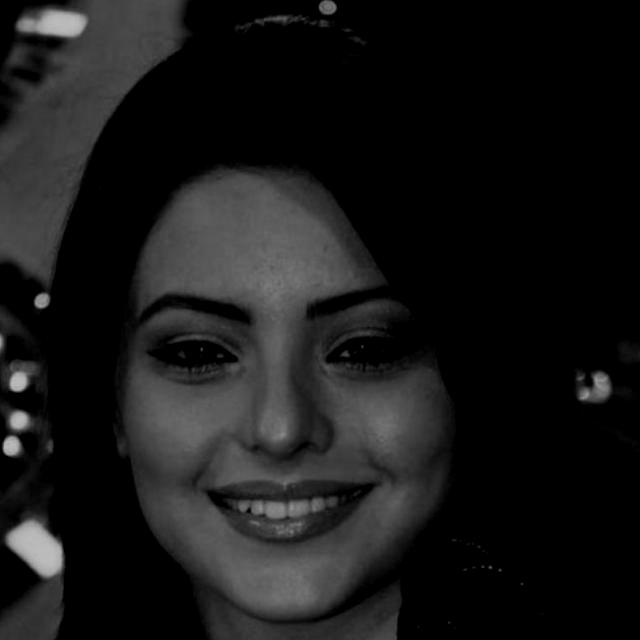real: (96, 164, 478, 630)
